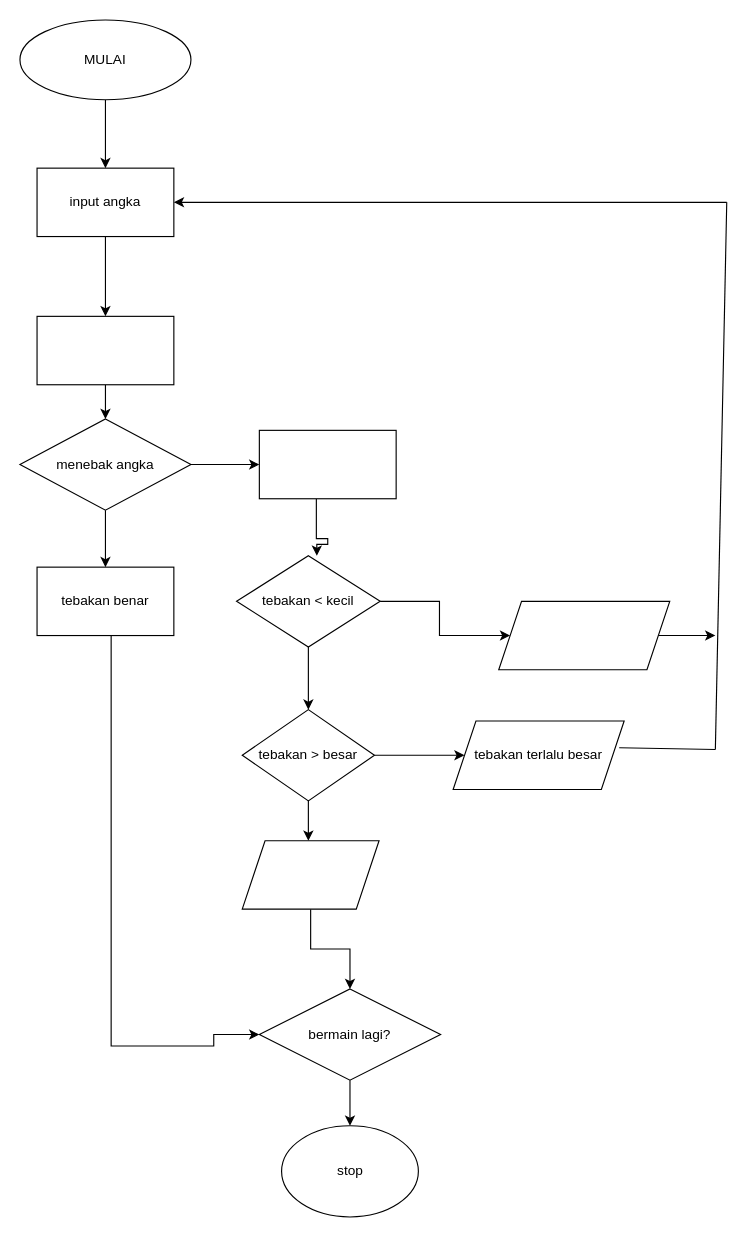
Some shapes in this 756 by 1237 pixel diagram are drawn without their labels. Each missing label, with the centre of its shape:
"input tebakan" belongs at pixel 105 350.
"jawaban benar" belongs at pixel 310 874.
"tebakan terlalu kecil" belongs at pixel 584 635.
"Tebkan salah" belongs at pixel 327 464.
